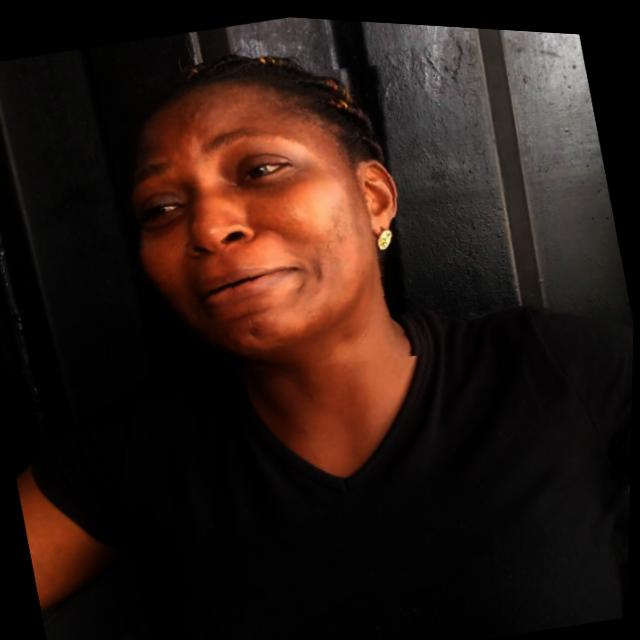sad: (95, 35, 444, 403)
